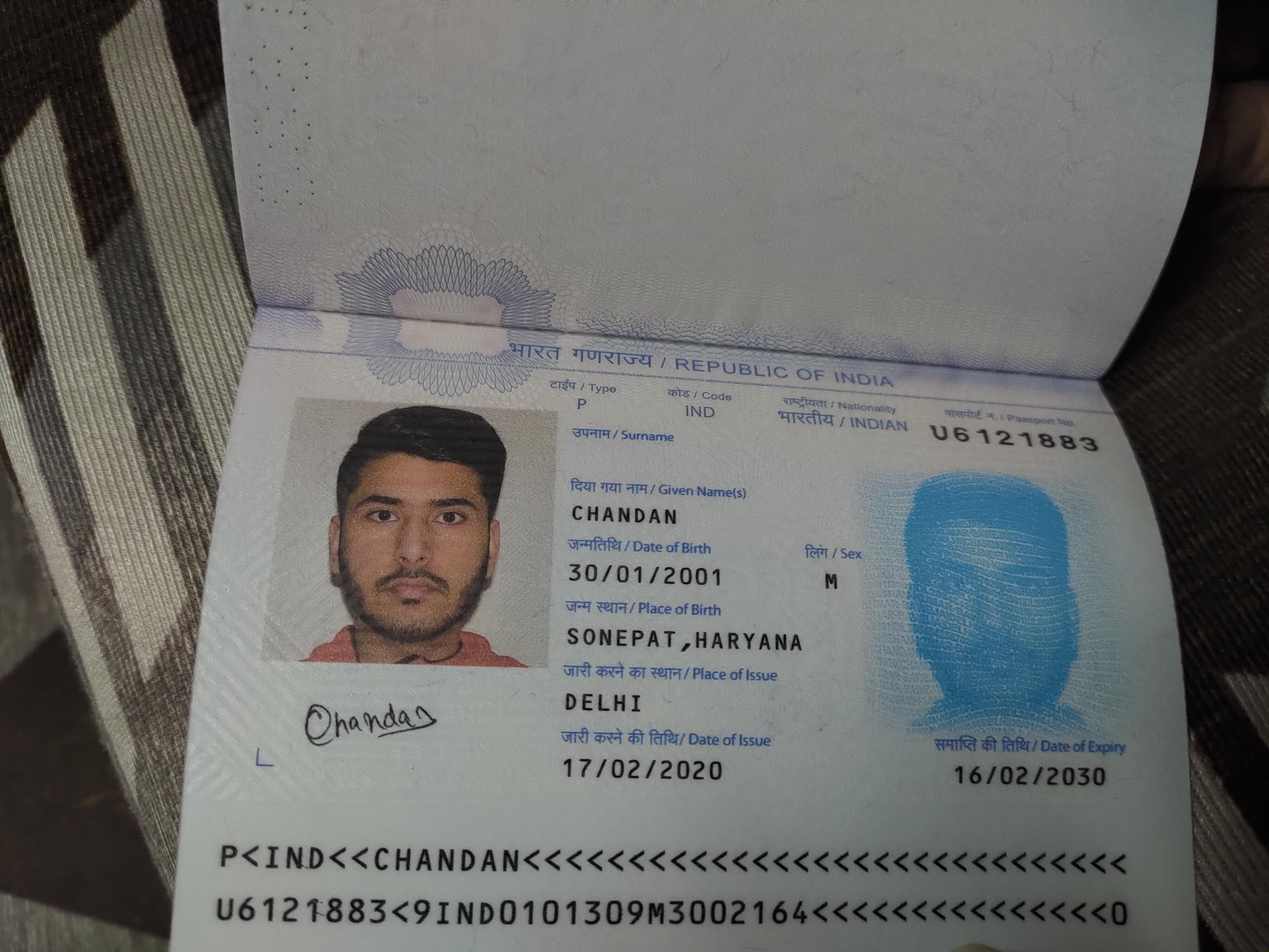DOB: (563, 553, 737, 590)
country_code: (676, 402, 721, 425)
date_of_expiry: (938, 757, 1113, 795)
date_of_issue: (554, 748, 731, 796)
details: (202, 830, 1136, 952)
name: (570, 496, 683, 531)
nationality: (770, 407, 914, 437)
passport_no: (925, 417, 1108, 459)
photo: (296, 399, 541, 666)
place_of_birth: (560, 620, 815, 657)
place_of_issue: (556, 684, 650, 716)
sex: (808, 565, 854, 595)
sign: (291, 686, 449, 761)
type: (570, 389, 595, 417)
